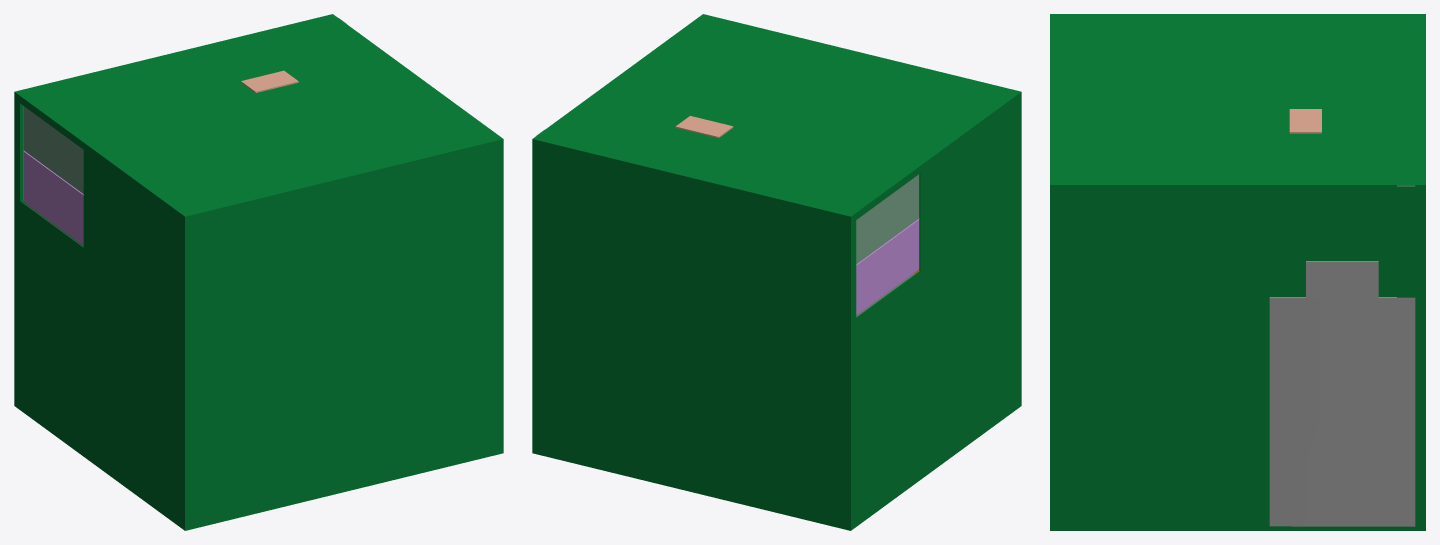
Rendered from hangar.fbx.
3 renders of one model, left to right at view 1: azimuth 30°, elevation 25°; view 2: azimuth 150°, elevation 25°; view 3: azimuth 270°, elevation 25°, orthographic. The views are drawn at different scales.
Parts seen in each view (by area): view 1: kabe, door2, door1, door5; view 2: kabe, door2, door1, door5; view 3: kabe, tsurou3, door5.
Part boxes in pixels (box(x1,y1,x2,y2)): kabe: box(14, 14, 503, 530); door2: box(23, 150, 83, 244); door1: box(23, 106, 83, 193); door5: box(241, 70, 298, 92); kabe: box(532, 14, 1021, 530); door2: box(856, 218, 919, 314); door1: box(856, 174, 919, 264); door5: box(675, 116, 733, 138); kabe: box(1050, 14, 1425, 530); tsurou3: box(1269, 185, 1415, 526); door5: box(1289, 109, 1321, 133).
Bounding box in the file's own units: 3966 × 3729 × 3657.
